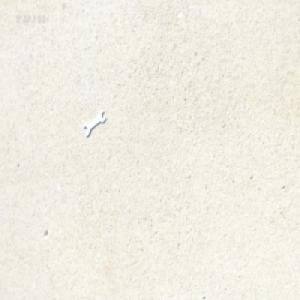Wrench: (83, 110, 105, 138)
